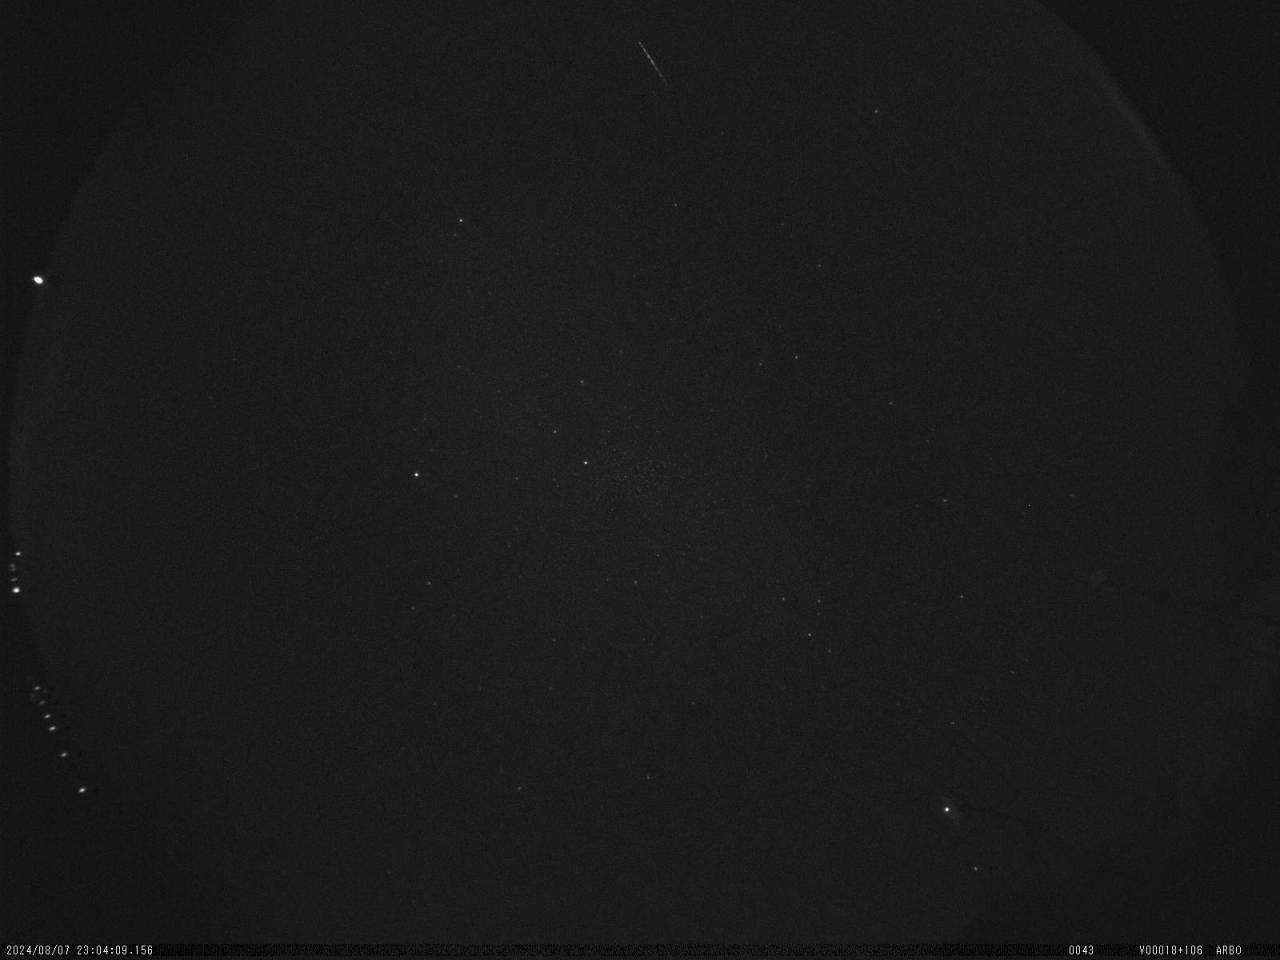Meteor: (632, 33, 674, 94)
